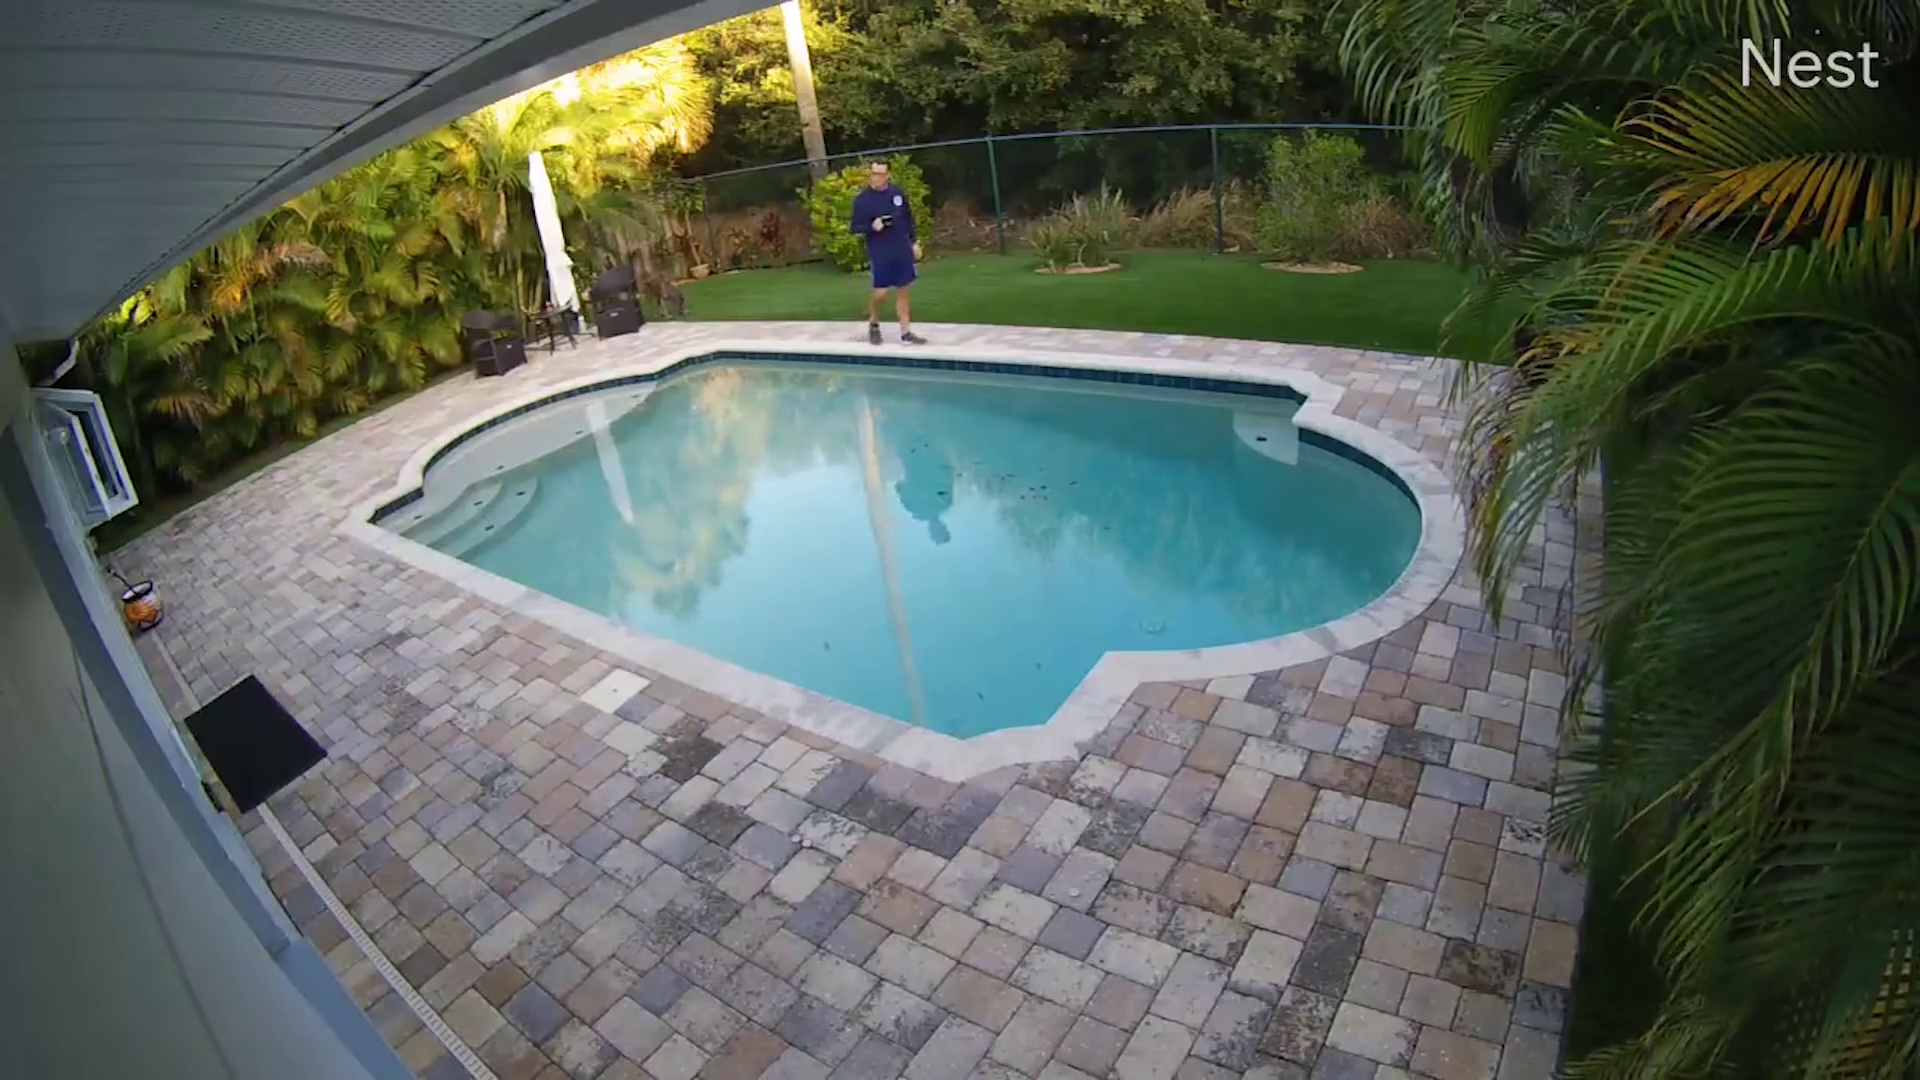face: (870, 166, 888, 186)
